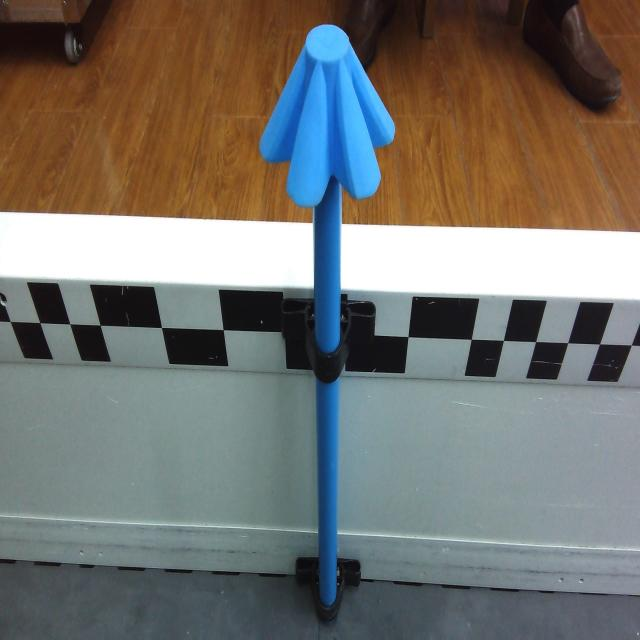zblue-Stake-Head: (260, 24, 396, 208)
